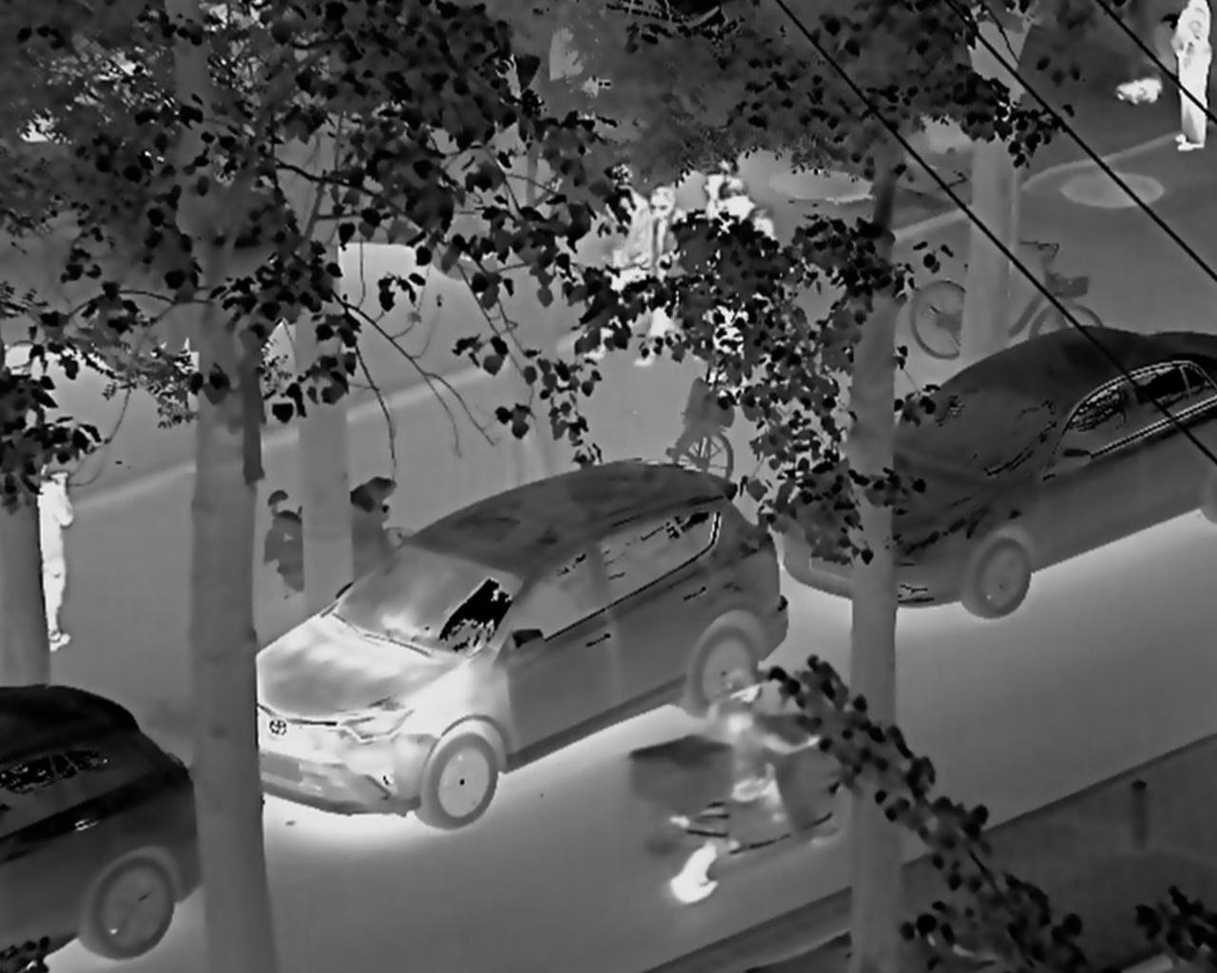person: (686, 662, 804, 828), (707, 171, 767, 379), (30, 455, 87, 667), (629, 184, 691, 375), (589, 161, 638, 372)
